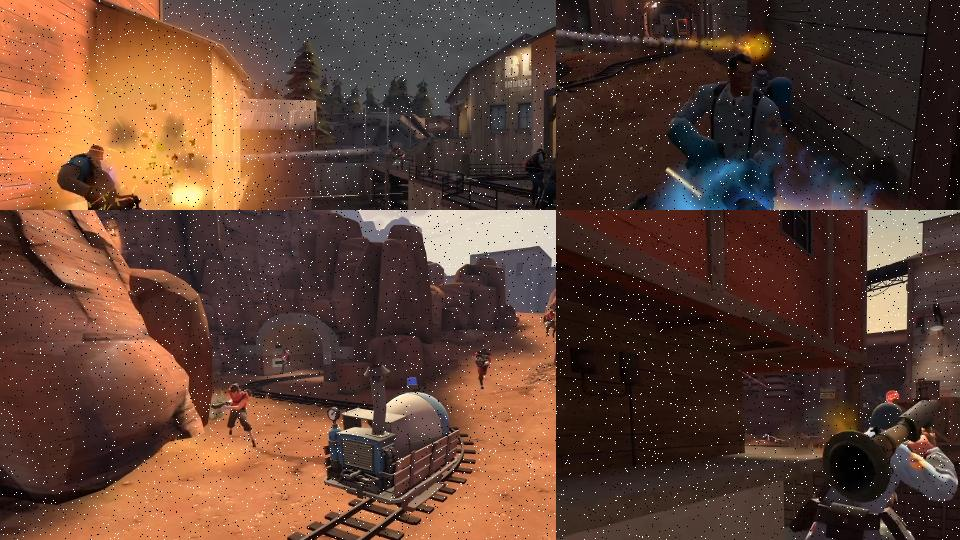Enemy: (794, 374, 960, 540), (666, 52, 793, 210), (54, 142, 150, 210), (210, 383, 264, 454), (525, 147, 551, 209), (534, 145, 556, 210), (471, 347, 495, 392), (271, 347, 300, 375), (538, 309, 556, 339), (391, 146, 407, 171)
